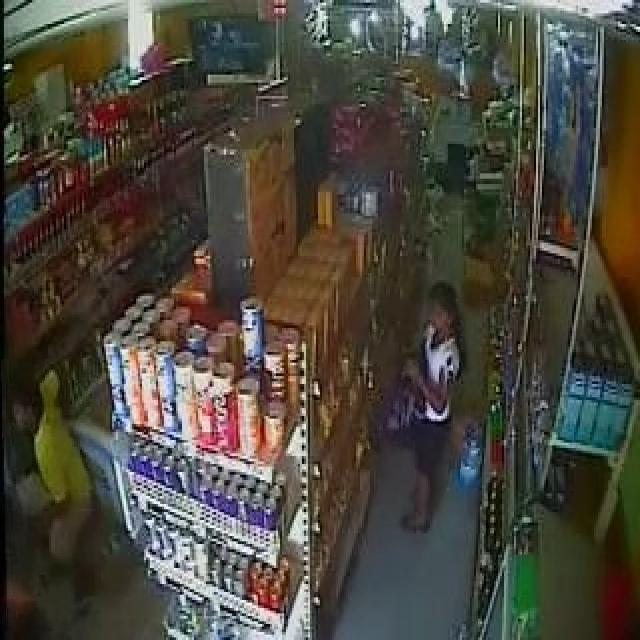Normal: (368, 266, 474, 534), (2, 359, 101, 632)
